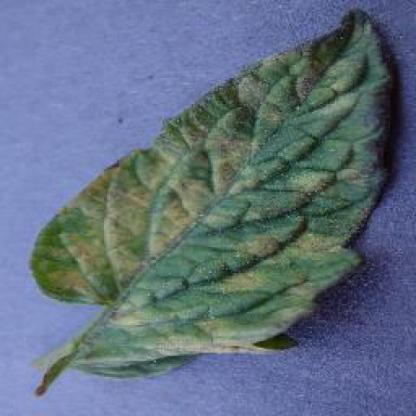Tomato_Leaf_Mold: (32, 7, 385, 377)
